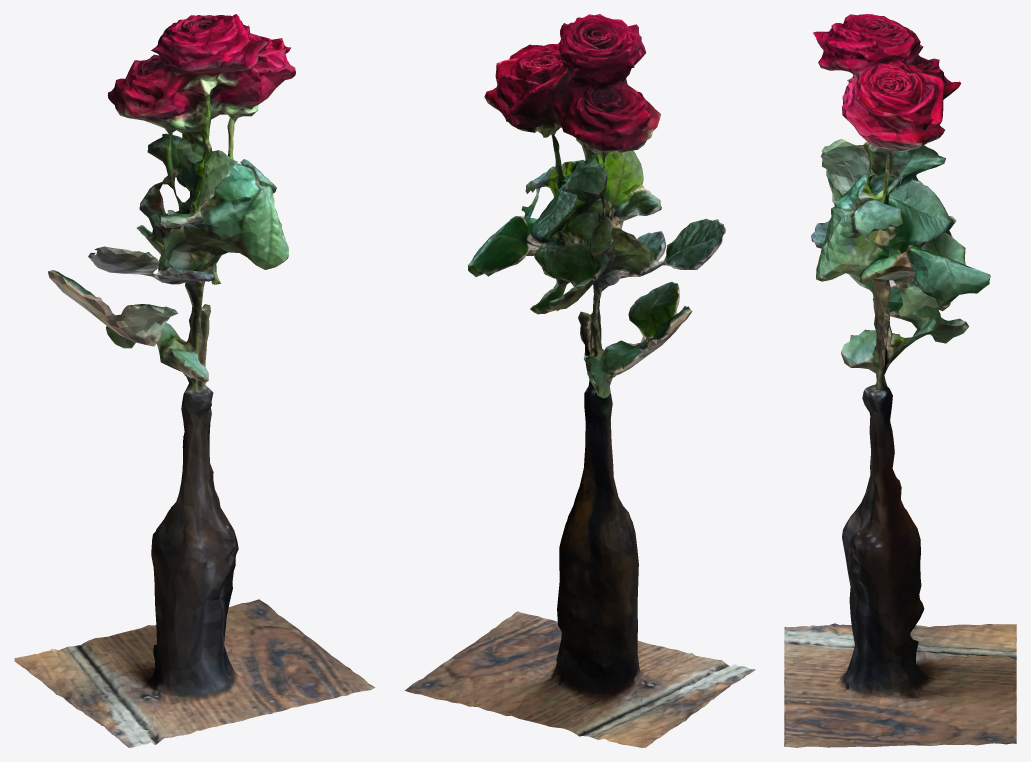
Rendered from rosa.glb.
3 views of the same model, side by side, from view 1: azimuth 30°, elevation 25°; view 2: azimuth 150°, elevation 25°; view 3: azimuth 270°, elevation 25° (orthographic). The views are drawn at different scales.
Size of the model in its own units: 0.2685 by 0.6984 by 0.2196.
1 material, 1 textured.
